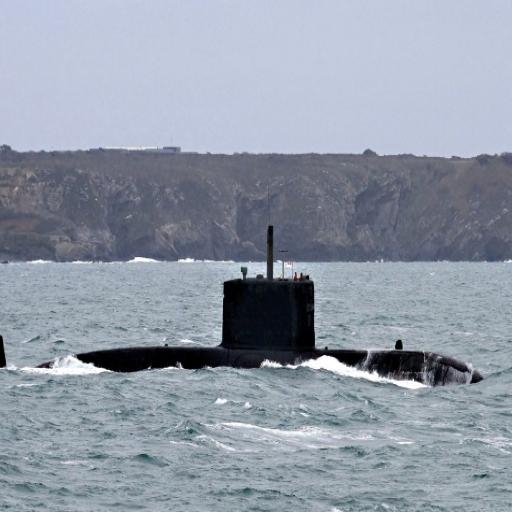submarine: (1, 225, 496, 373)
